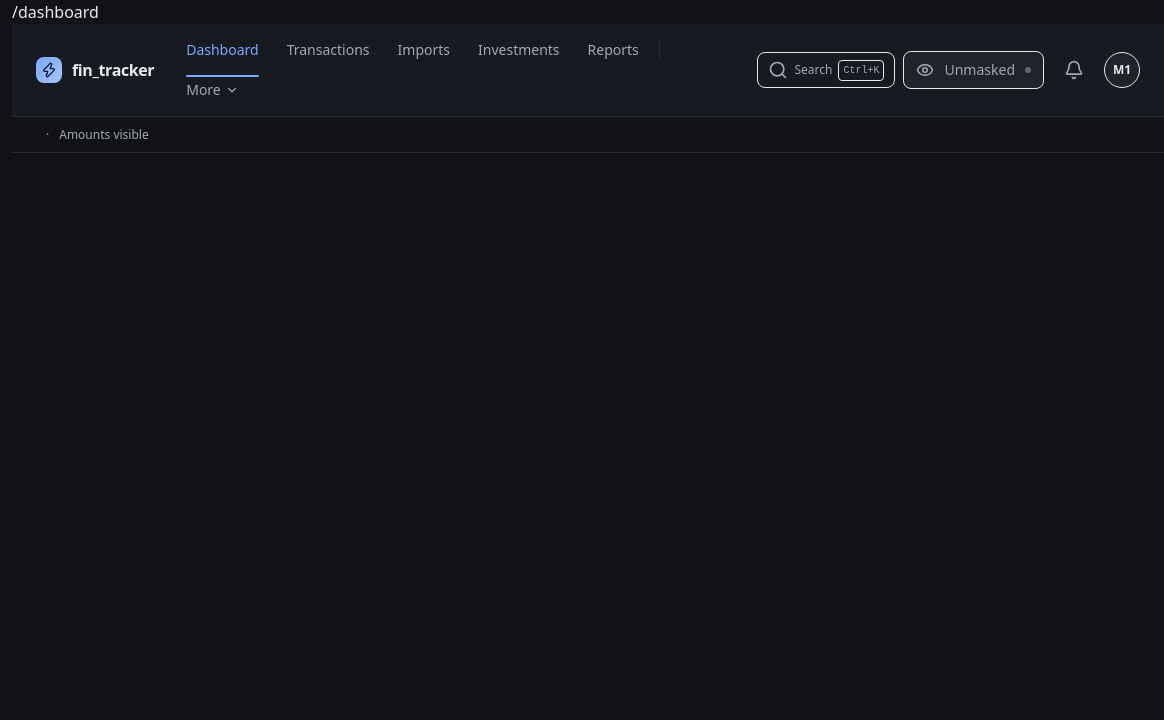
Scenario: M100 regression: the accounts entry goes to the accounts page › the More panel's All accounts row goes to /accounts (never /settings)
Click the button with test id "more-toggle": (212, 90) x1=174 y1=72 x2=251 y2=108
(page scrolled)
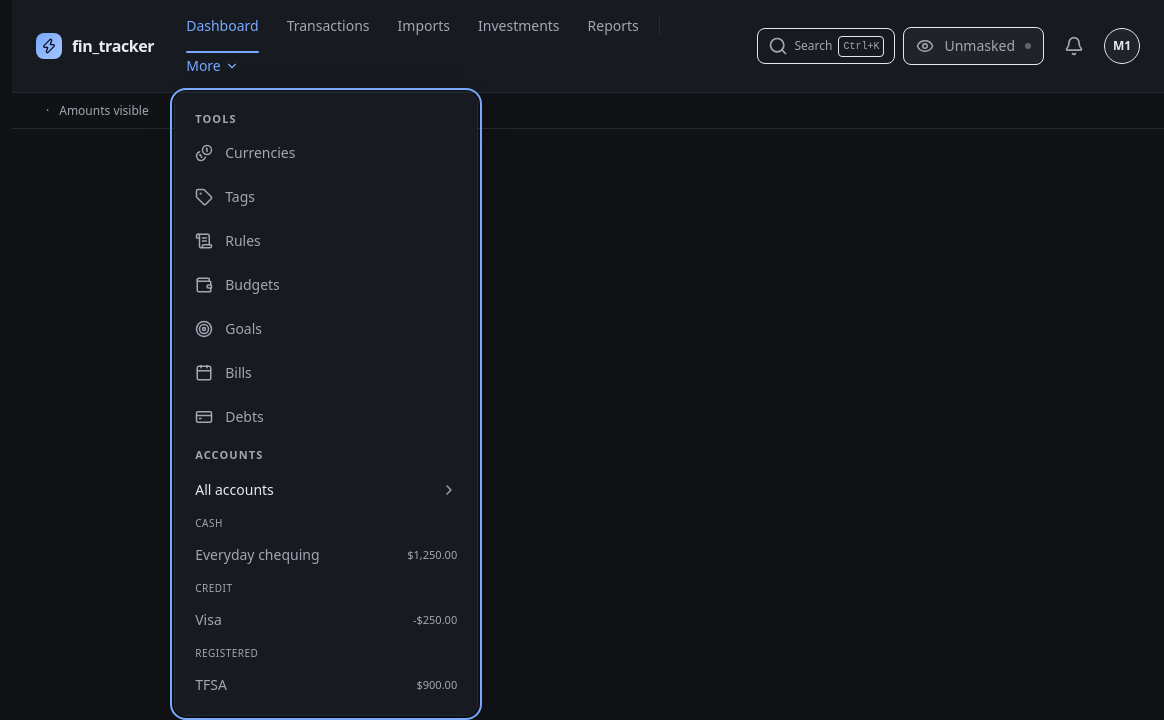
Click the link "All accounts": (235, 489) x1=195 y1=480 x2=457 y2=498
(page scrolled)
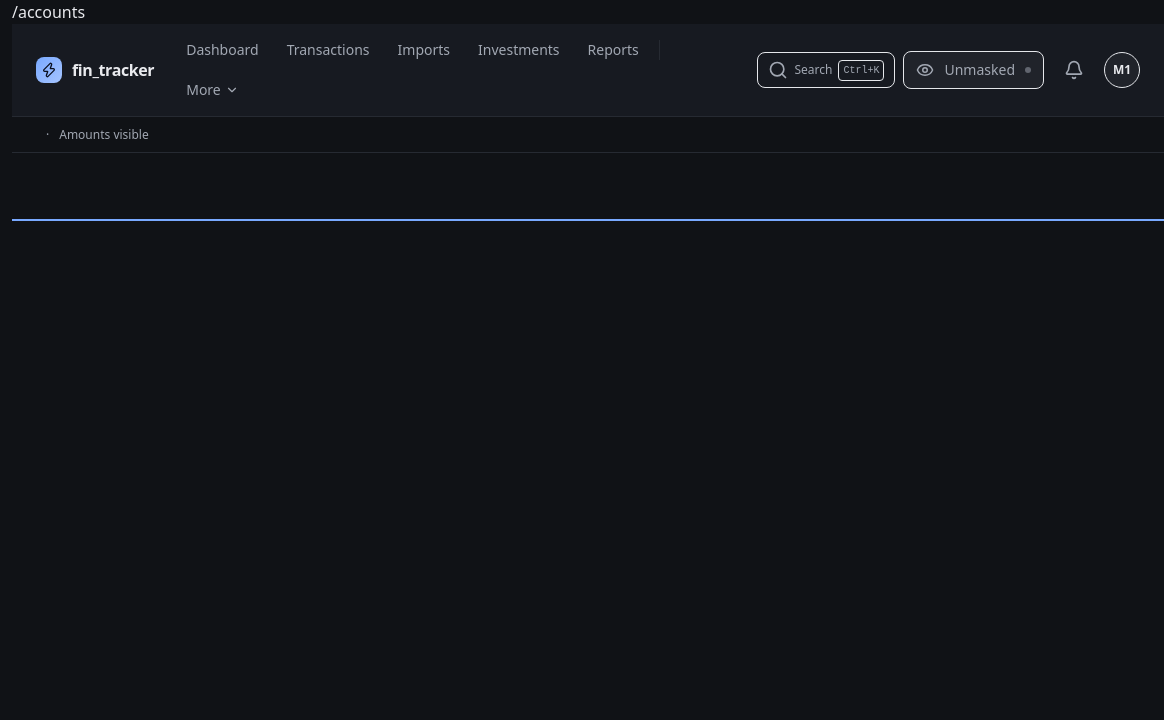
Now the text with test id "location" reads "/accounts", box x1=12 y1=1 x2=85 y2=23
